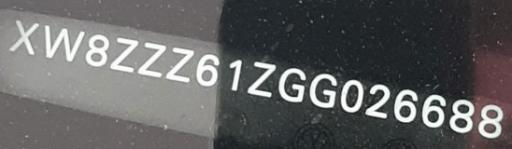letter: (42, 22, 86, 62), (6, 17, 40, 57), (108, 35, 140, 74), (245, 60, 277, 99), (164, 46, 196, 83), (308, 72, 338, 111), (418, 93, 448, 130), (136, 41, 166, 78), (277, 66, 307, 103), (391, 86, 419, 125), (363, 81, 391, 119), (477, 102, 505, 140), (448, 97, 476, 134), (194, 53, 222, 88), (338, 78, 364, 114), (84, 32, 110, 68), (228, 56, 242, 93)
